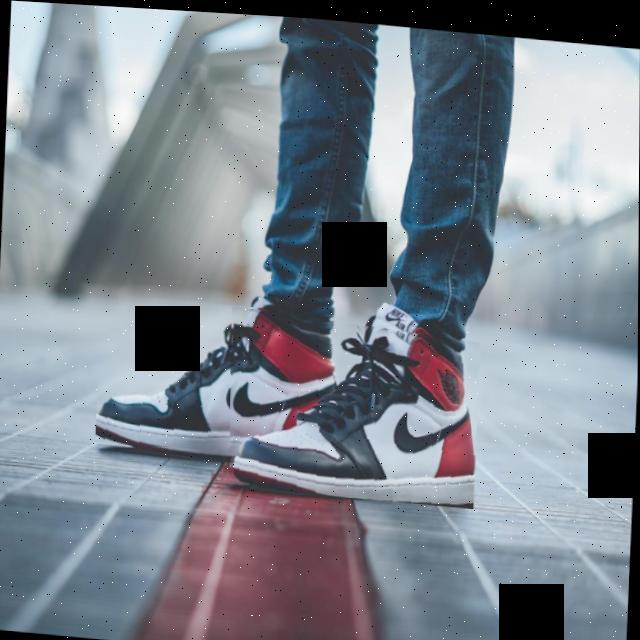shoe: (225, 303, 481, 503), (95, 291, 336, 461)
